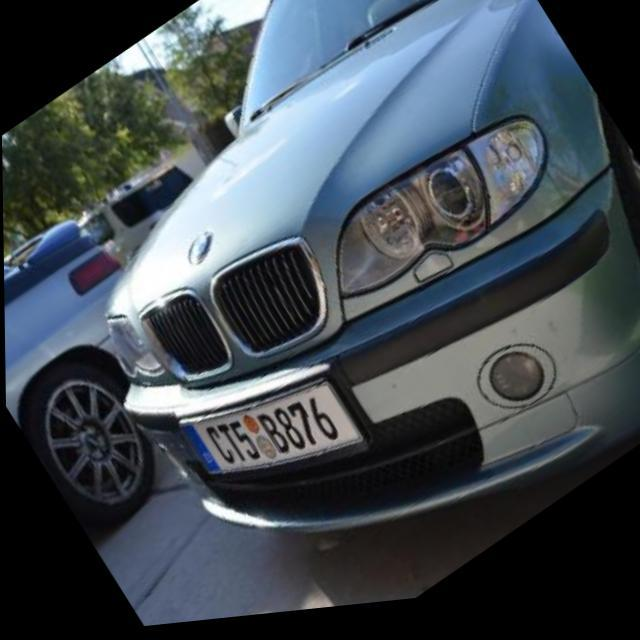license_plate: (175, 336, 373, 544)
